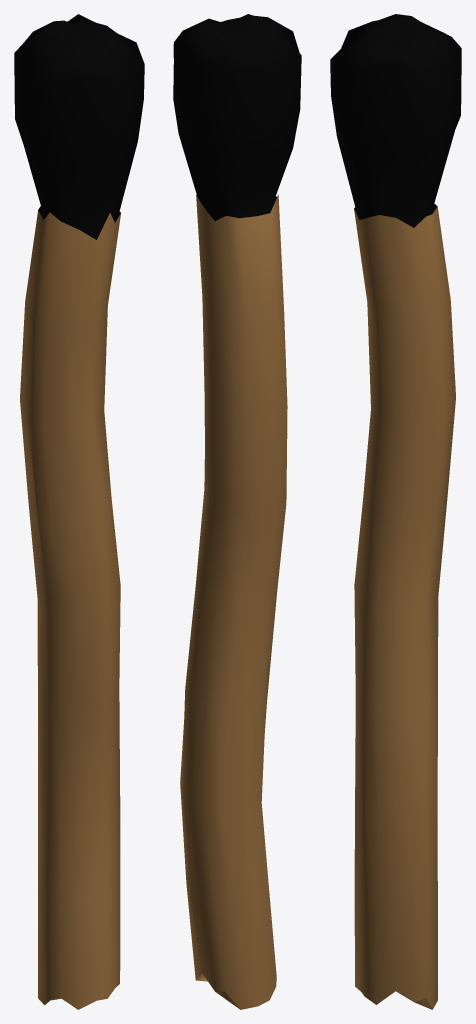
Rendered from torch.fbx.
The picture shows the model from 3 angles, left to right: view 1: azimuth 90°, elevation 25°; view 2: azimuth 210°, elevation 25°; view 3: azimuth 270°, elevation 25°; orthographic projection.
Parts seen in each view (by area): view 1: Cube; view 2: Cube; view 3: Cube.
Boxes of the visible parts, x1,y1,x2,y2 form: Cube: (14, 14, 144, 1009); Cube: (173, 14, 301, 1009); Cube: (330, 14, 461, 1009).
Bounding box in the file's own units: 25.38 × 208 × 25.42.
